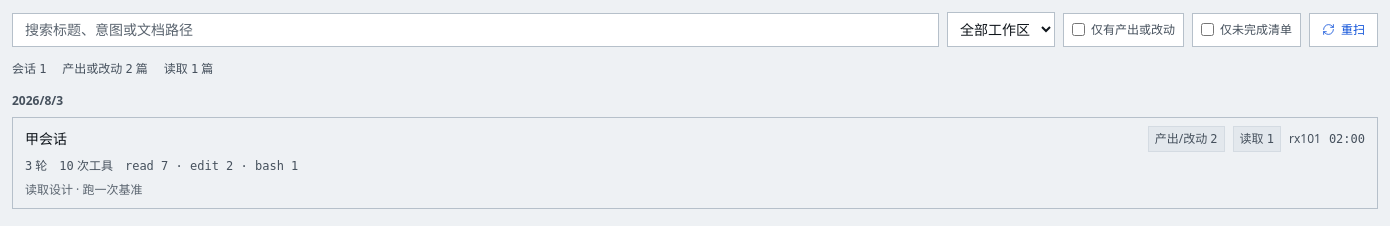
Test: SessionsPanel › adopts a live session update in place, keeping the active filter
The image size is (1390, 226).
expect the text "甲会话" is shown: met, box [25,129,67,148]
In the search field named "搜索会话": (476, 30) [12,12,939,46], type "PCIe"
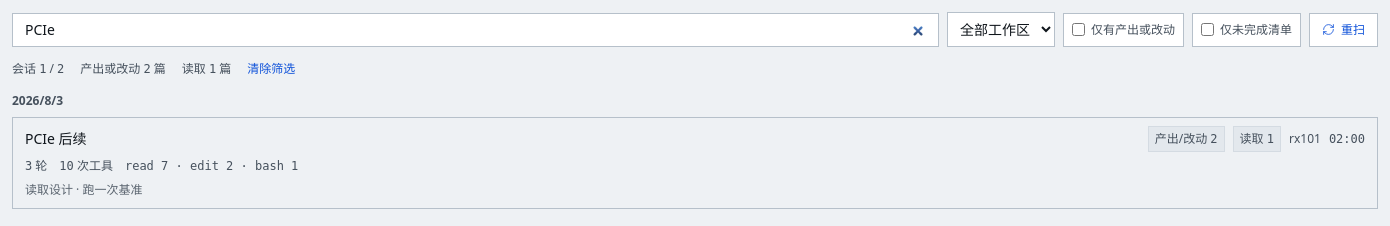
expect the text "PCIe 后续" is shown: met, box [25,129,87,148]
expect the button "甲会话" is gone: met
